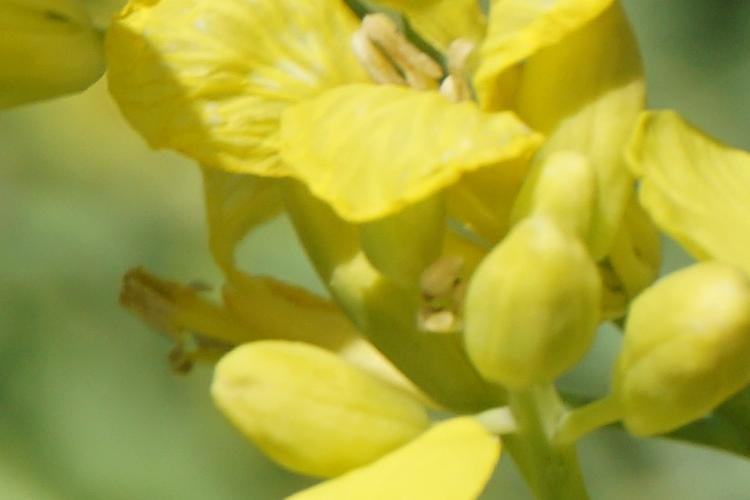bud: (211, 337, 430, 460), (615, 257, 743, 439), (468, 232, 601, 391), (520, 152, 596, 252)
yellow: (109, 13, 652, 244), (106, 261, 361, 359)
